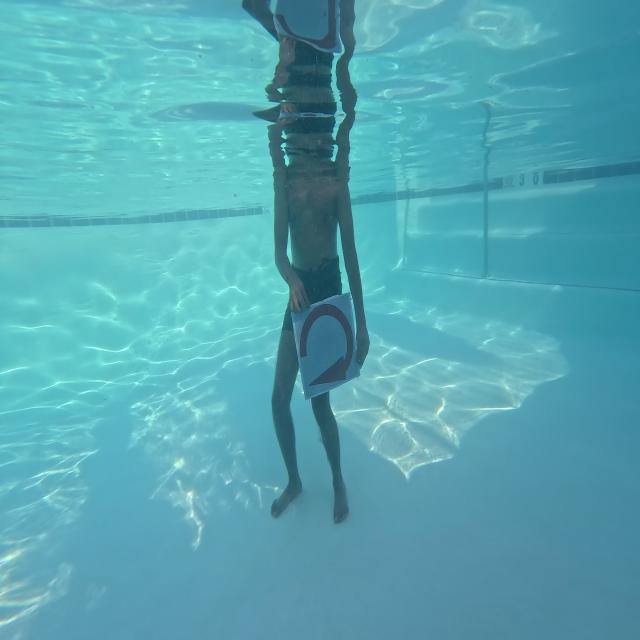red_side: (296, 303, 360, 396)
